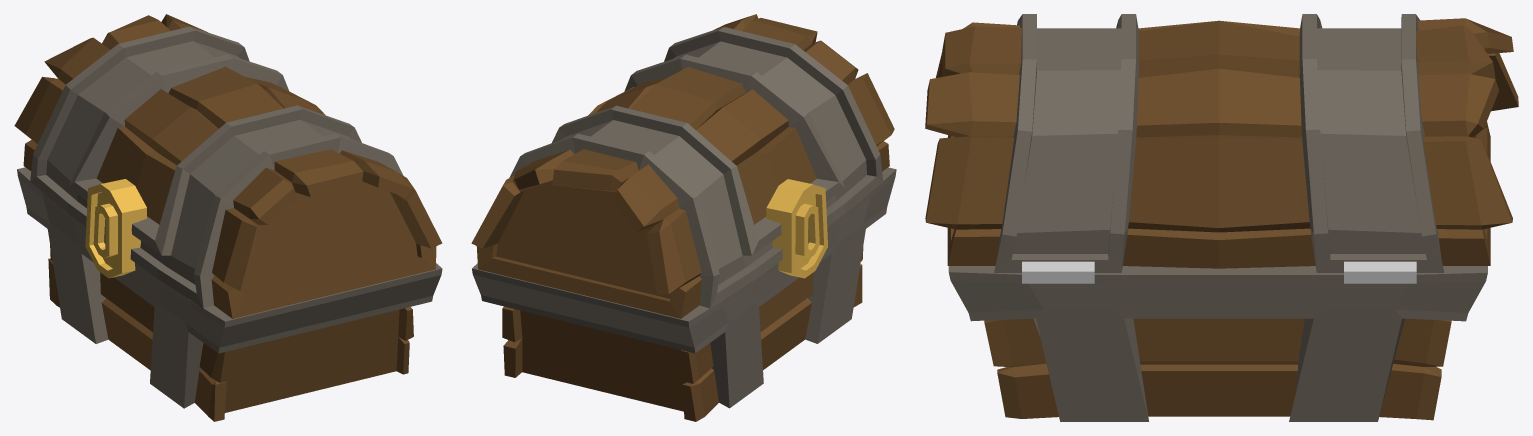
File: Chest_Prop.glb
The picture shows the model from 3 angles, left to right: view 1: azimuth 30°, elevation 25°; view 2: azimuth 150°, elevation 25°; view 3: azimuth 270°, elevation 25°; orthographic projection. The views are drawn at different scales.
Visible parts, largest first — view 1: Chest_Prop; view 2: Chest_Prop; view 3: Chest_Prop.
Part boxes in pixels (box(x1,y1,x2,y2)): Chest_Prop: box(14, 14, 442, 421); Chest_Prop: box(471, 14, 896, 421); Chest_Prop: box(925, 14, 1518, 421).
Size of the model in its own units: 0.7938 by 0.7502 by 1.25.
1 material, 1 textured.
